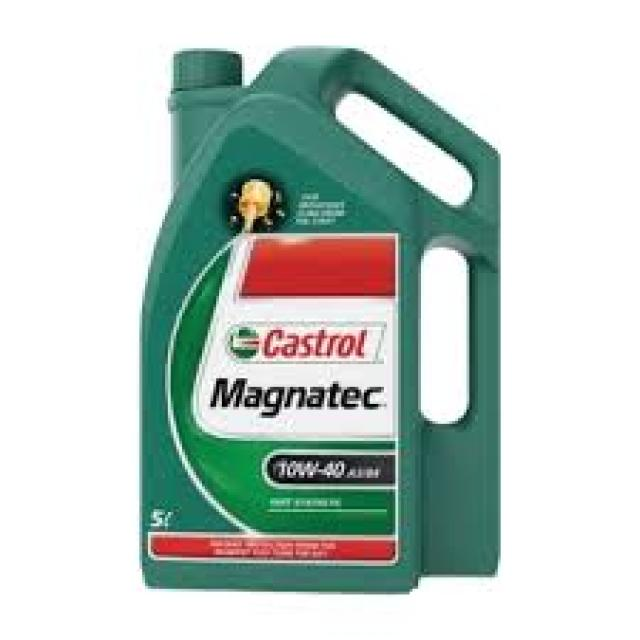motor_oil: (133, 35, 512, 598)
